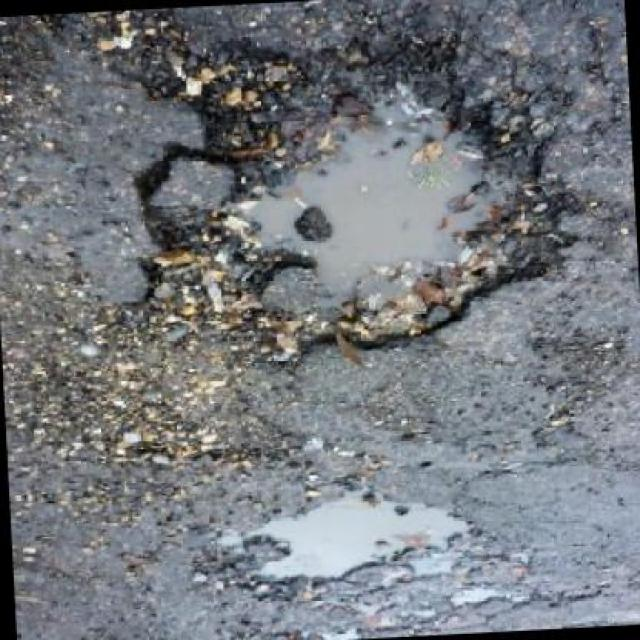pothole1: (102, 10, 590, 361), (190, 486, 488, 602)
